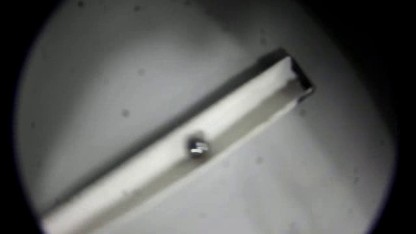gangzhu: (186, 138, 210, 163)
